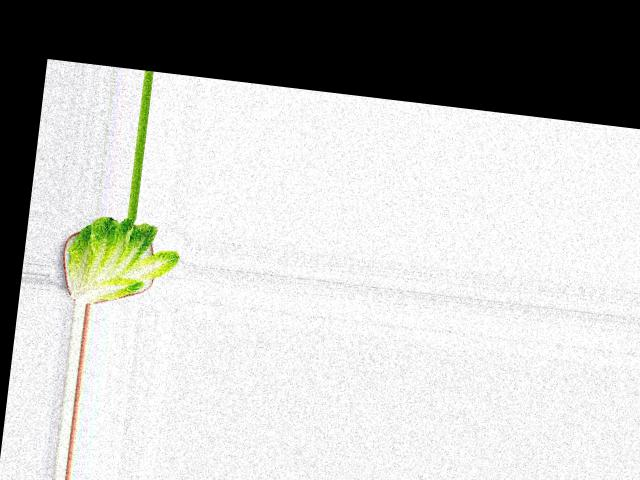lettuce: (56, 209, 185, 311)
